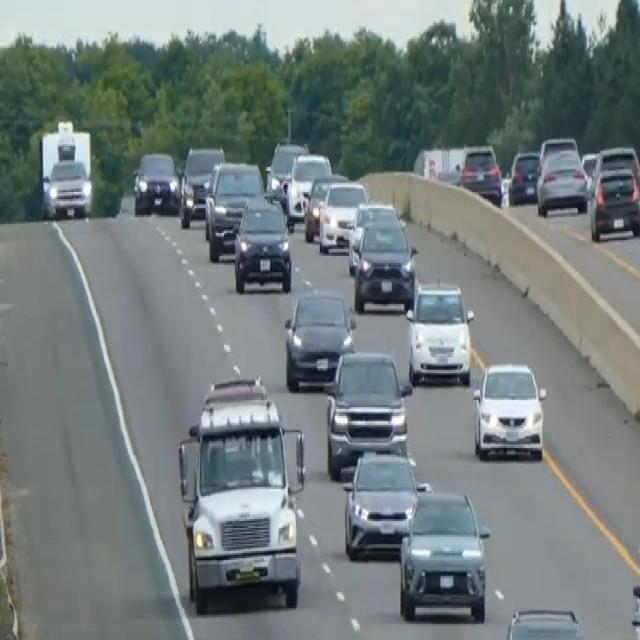car: (398, 486, 490, 622), (324, 348, 412, 476), (341, 446, 428, 560), (472, 359, 547, 462), (283, 286, 356, 391), (405, 277, 474, 386), (352, 217, 418, 313), (203, 158, 264, 260), (232, 195, 292, 294), (178, 142, 224, 228), (589, 164, 639, 242), (535, 146, 588, 217), (347, 197, 397, 272), (317, 178, 367, 252), (286, 151, 332, 224), (302, 171, 349, 240), (132, 149, 180, 215), (457, 142, 503, 206), (503, 604, 581, 638), (591, 142, 639, 192), (266, 139, 307, 197), (507, 148, 540, 205), (537, 133, 579, 169)
lorry: (176, 374, 307, 612)
motorcycle: (629, 542, 639, 638)
